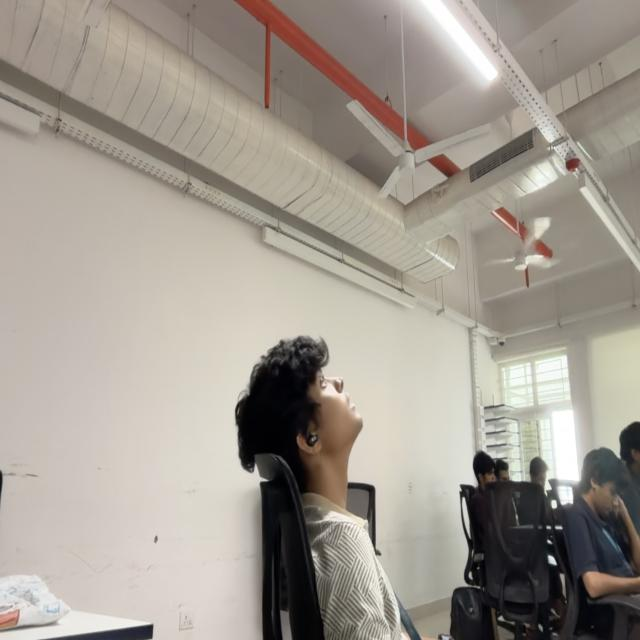kshitij: (235, 338, 364, 494)
